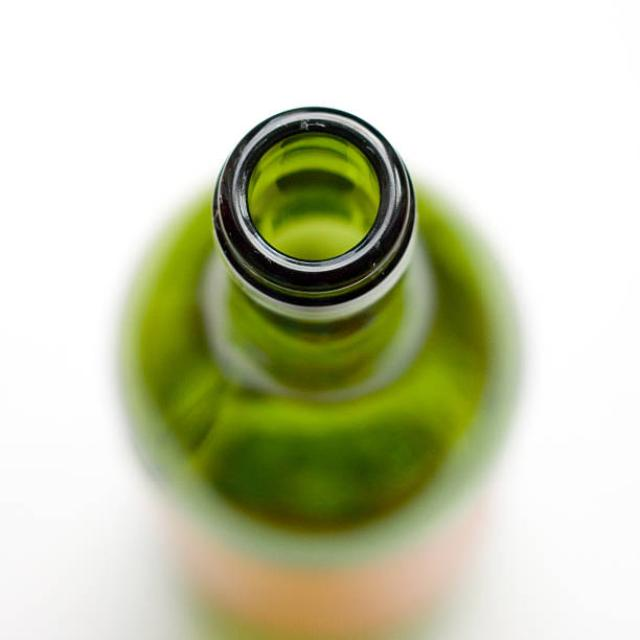electronic: (114, 99, 530, 640)
